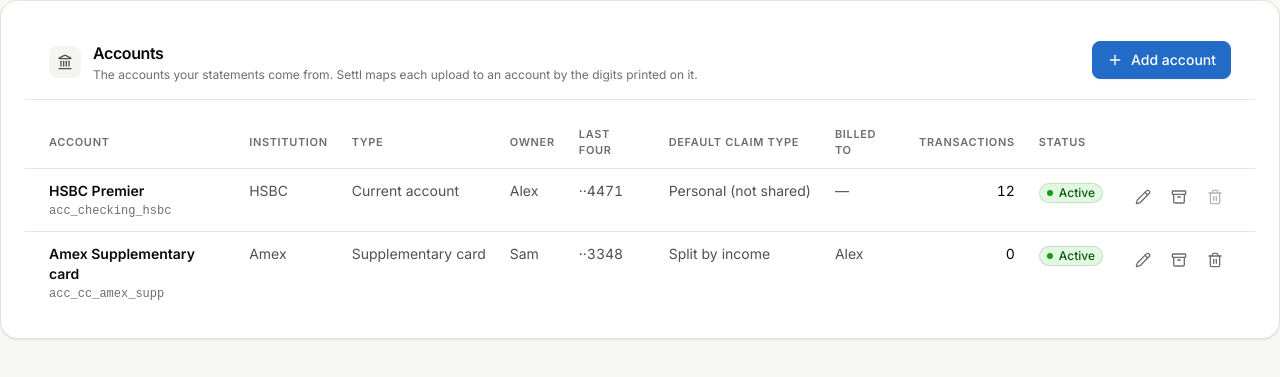
<AccountsPanel /> › shows the server’s refusal beside the row when a delete is refused
The width and height of the screenshot is (1280, 377).
Click the button named "Delete Amex Supplementary card": [1215, 260] box [1199,244,1231,276]
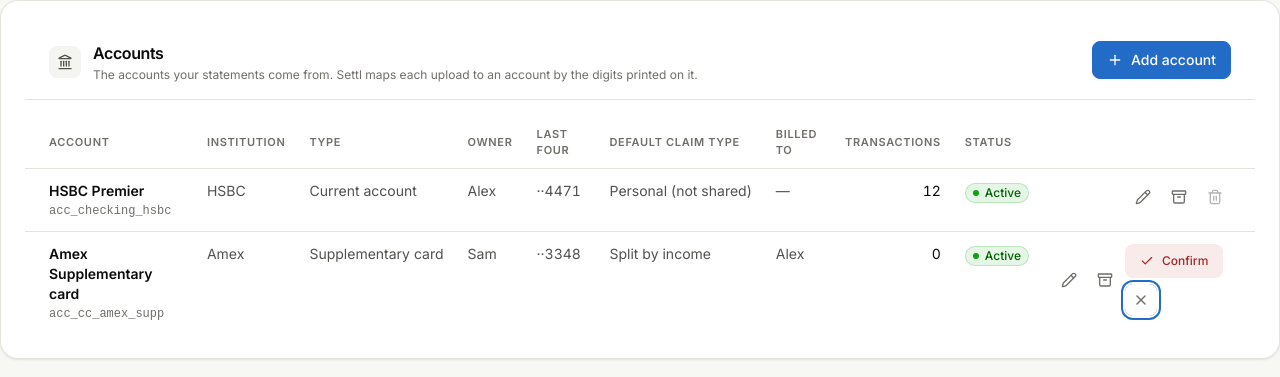
Click the button "Confirm": [1174, 261] box [1125,244,1223,278]
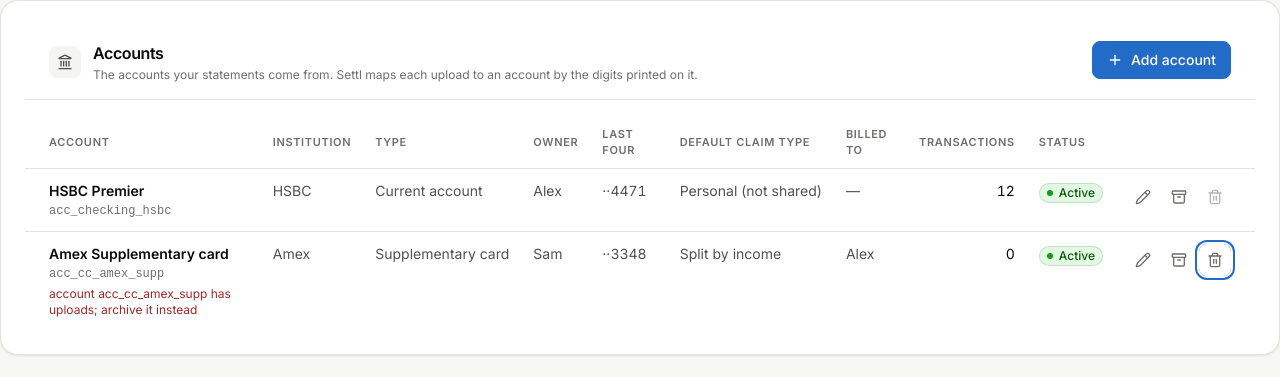
Expected: the button named "Edit Amex Supplementary card" is shown, [1127,244,1159,276]
Now the message reads "account acc_cc_amex_supp has uploads; archive it instead", box [49,286,231,317]
